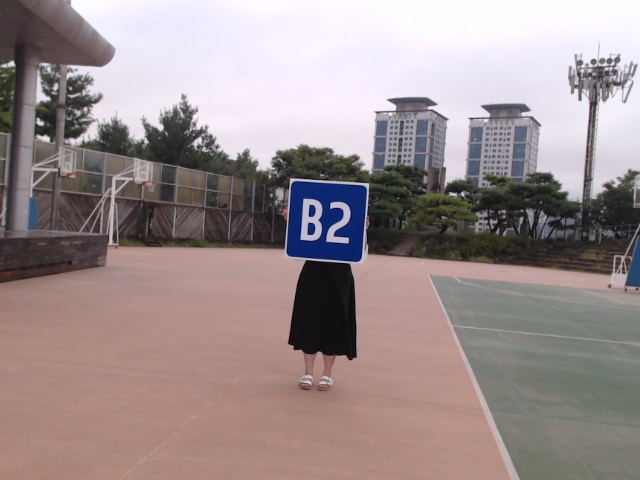delivery_b2: (284, 180, 368, 263)
